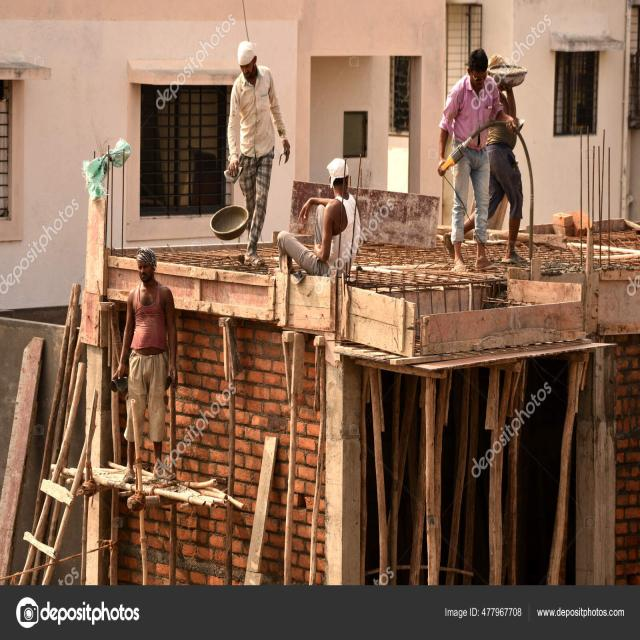Framing: (399, 341, 590, 574)
Masonary: (91, 206, 371, 586)
